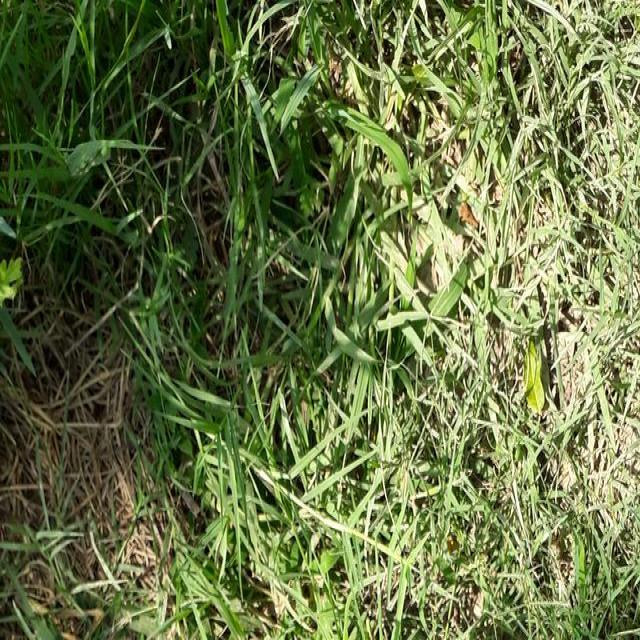weed: (3, 11, 511, 382), (180, 426, 511, 640)
